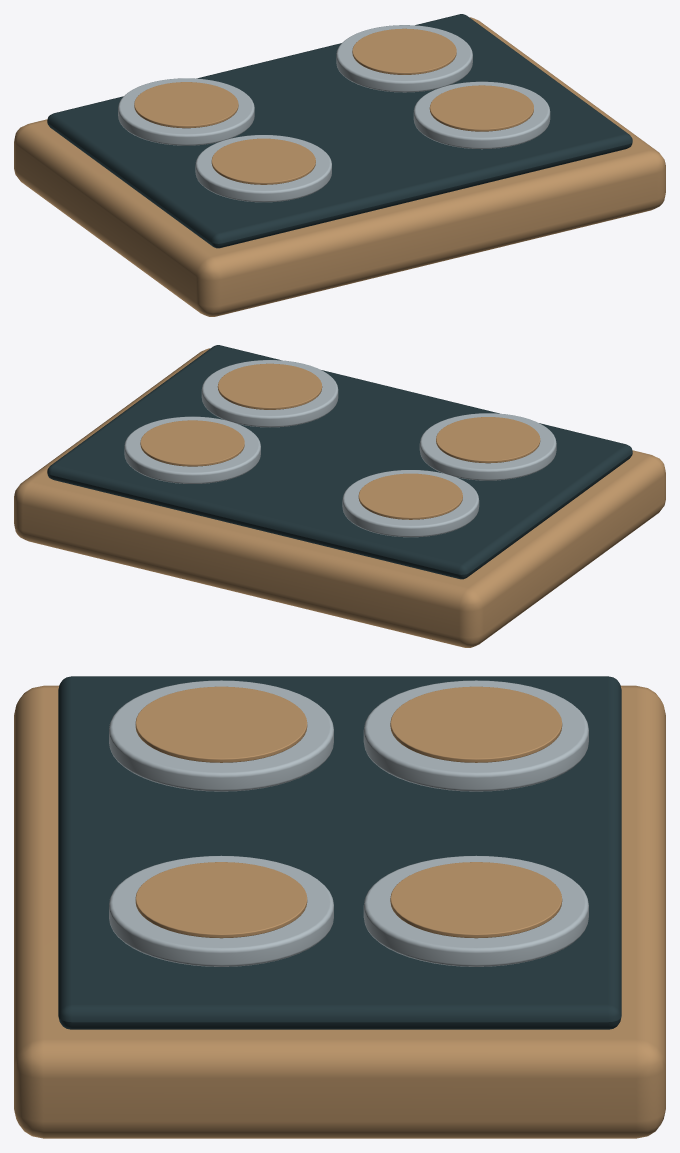
The model's file is entry-collection.glb.
The picture shows the model from 3 angles, top to bottom: view 1: azimuth 30°, elevation 25°; view 2: azimuth 150°, elevation 25°; view 3: azimuth 270°, elevation 25°; orthographic projection. The views are drawn at different scales.
Visible parts, largest first — view 1: Velvet display lining, Display case base, Token inset.001, Token inset.002, Token inset, Token inset.003, Collectible metal token.001, Collectible metal token, Collectible metal token.002, Collectible metal token.003; view 2: Display case base, Velvet display lining, Token inset.003, Token inset.002, Token inset.001, Token inset, Collectible metal token.003, Collectible metal token.002, Collectible metal token.001, Collectible metal token; view 3: Velvet display lining, Display case base, Token inset.002, Token inset, Token inset.001, Token inset.003, Collectible metal token.002, Collectible metal token, Collectible metal token.003, Collectible metal token.001.
Part boxes in pixels (x1=…): Velvet display lining: x1=47, y1=14, x2=632, y2=248; Display case base: x1=14, y1=17, x2=665, y2=316; Token inset.001: x1=429, y1=85, x2=533, y2=131; Token inset.002: x1=134, y1=82, x2=238, y2=128; Token inset: x1=211, y1=138, x2=315, y2=184; Token inset.003: x1=352, y1=28, x2=456, y2=74; Collectible metal token.001: x1=413, y1=81, x2=550, y2=149; Collectible metal token: x1=195, y1=135, x2=331, y2=202; Collectible metal token.002: x1=118, y1=78, x2=254, y2=145; Collectible metal token.003: x1=336, y1=25, x2=472, y2=92; Display case base: x1=14, y1=348, x2=665, y2=647; Velvet display lining: x1=47, y1=345, x2=632, y2=579; Token inset.003: x1=140, y1=420, x2=244, y2=466; Token inset.002: x1=358, y1=473, x2=462, y2=519; Token inset.001: x1=217, y1=363, x2=322, y2=409; Token inset: x1=436, y1=417, x2=540, y2=463; Collectible metal token.003: x1=124, y1=416, x2=260, y2=483; Collectible metal token.002: x1=342, y1=470, x2=479, y2=537; Collectible metal token.001: x1=201, y1=360, x2=338, y2=427; Collectible metal token: x1=419, y1=413, x2=556, y2=480; Velvet display lining: x1=58, y1=676, x2=621, y2=1029; Display case base: x1=14, y1=685, x2=665, y2=1138; Token inset.002: x1=390, y1=686, x2=562, y2=762; Token inset: x1=135, y1=686, x2=307, y2=762; Token inset.001: x1=135, y1=862, x2=307, y2=938; Token inset.003: x1=390, y1=862, x2=562, y2=938; Collectible metal token.002: x1=363, y1=680, x2=588, y2=791; Collectible metal token: x1=109, y1=680, x2=333, y2=791; Collectible metal token.003: x1=363, y1=855, x2=588, y2=966; Collectible metal token.001: x1=109, y1=855, x2=333, y2=966.
Size of the model in its own units: 4.26 by 0.7815 by 3.13.
